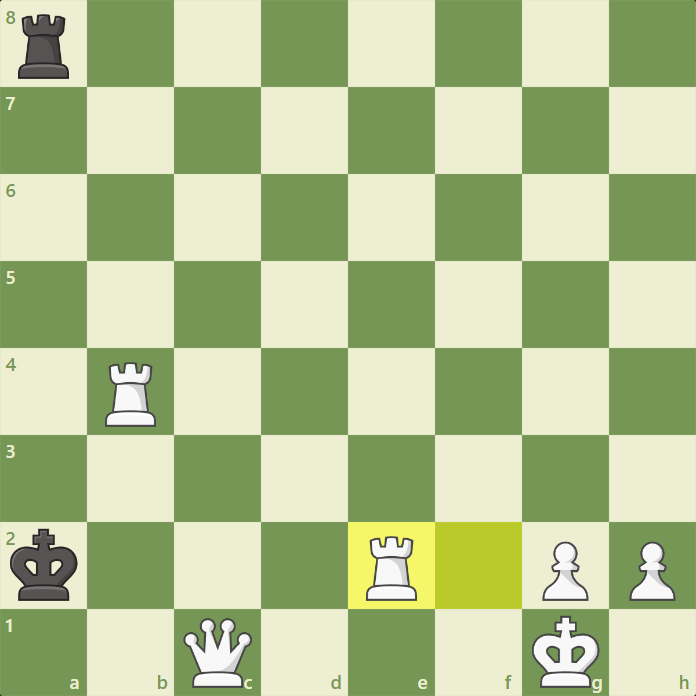K: (530, 614, 602, 690)
P: (627, 540, 677, 604), (542, 540, 591, 604)
Q: (181, 616, 255, 689)
R: (364, 534, 420, 604), (103, 359, 159, 429)
k: (8, 526, 82, 603)
r: (15, 12, 72, 81)
